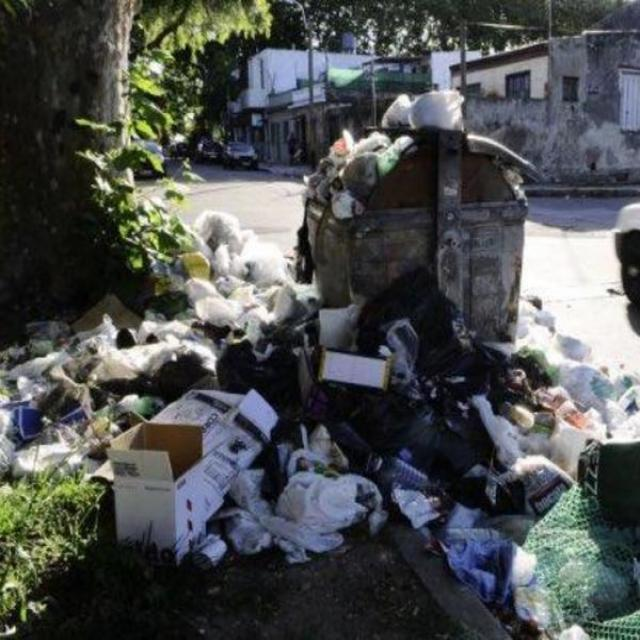garbage: (15, 298, 637, 618), (166, 182, 296, 413), (318, 118, 456, 225), (385, 84, 496, 128)
